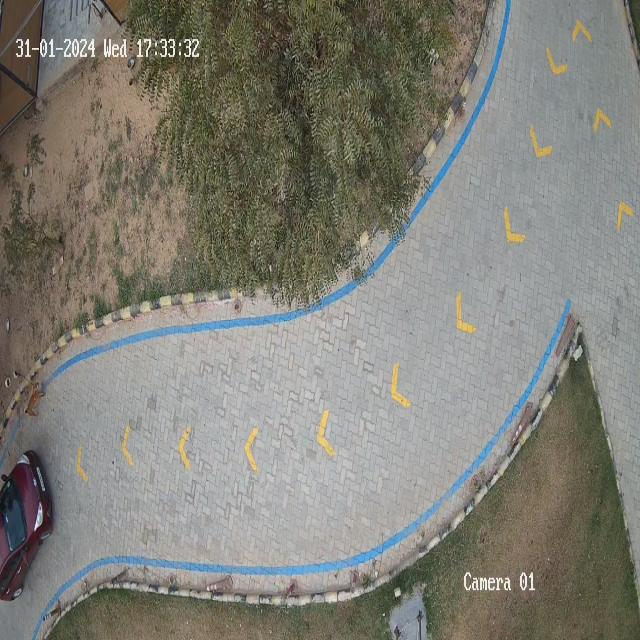car: (0, 451, 52, 601)
